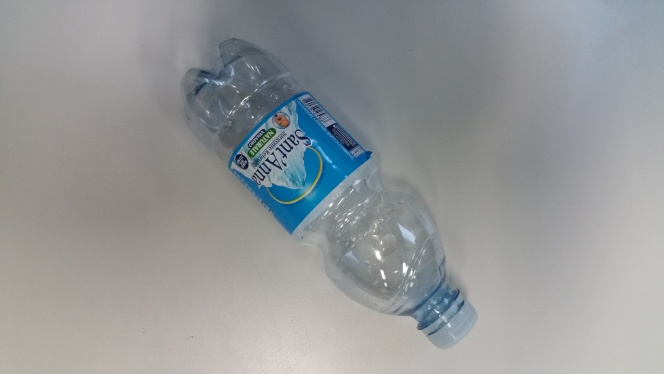bottle: (171, 27, 481, 351)
